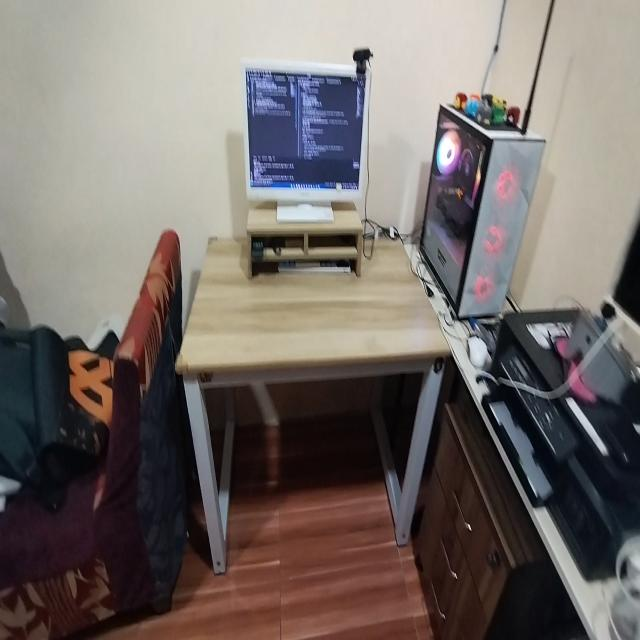table: (174, 220, 456, 570)
